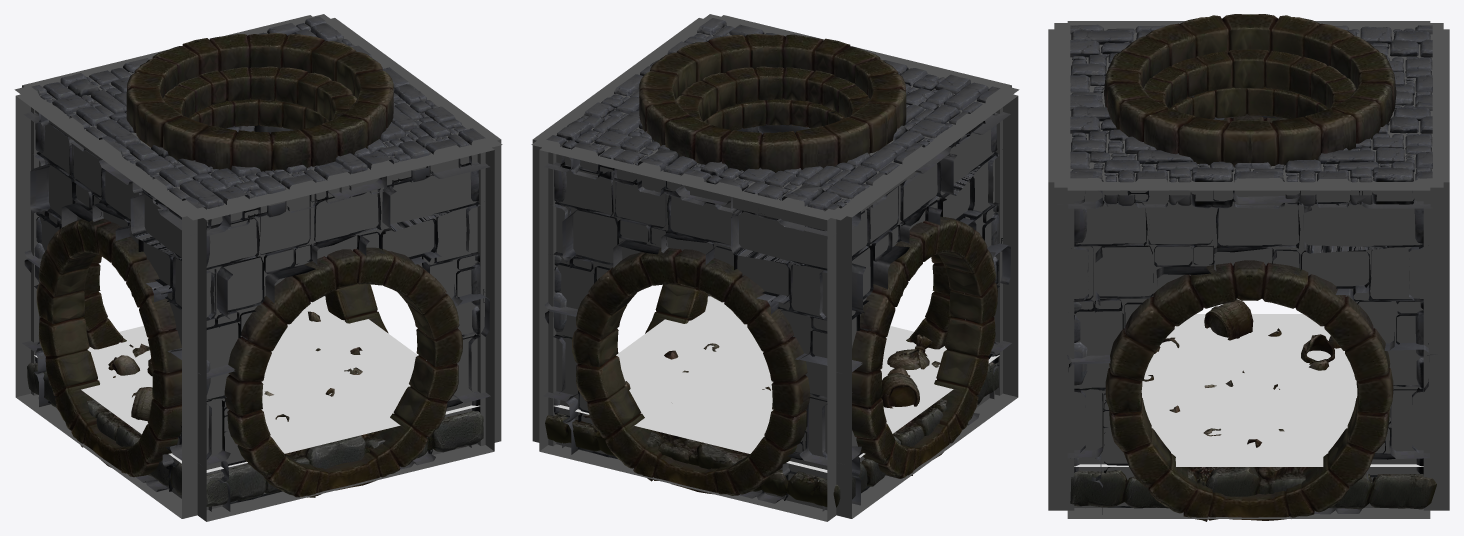
The model's file is Sewer_Floor_Entrance.fbx.
3 renders of one model, left to right at view 1: azimuth 30°, elevation 25°; view 2: azimuth 150°, elevation 25°; view 3: azimuth 270°, elevation 25°, orthographic. The views are drawn at different scales.
Parts seen in each view (by area): view 1: Sewer_Floor_Entrance; view 2: Sewer_Floor_Entrance; view 3: Sewer_Floor_Entrance.
Part boxes in pixels (x1,y1,x2,y2): Sewer_Floor_Entrance: [14, 14, 502, 521]; Sewer_Floor_Entrance: [531, 14, 1019, 521]; Sewer_Floor_Entrance: [1048, 14, 1449, 521].
Bounding box in the file's own units: 332 × 336 × 332.
Materials: 5 (3 with a texture image).
